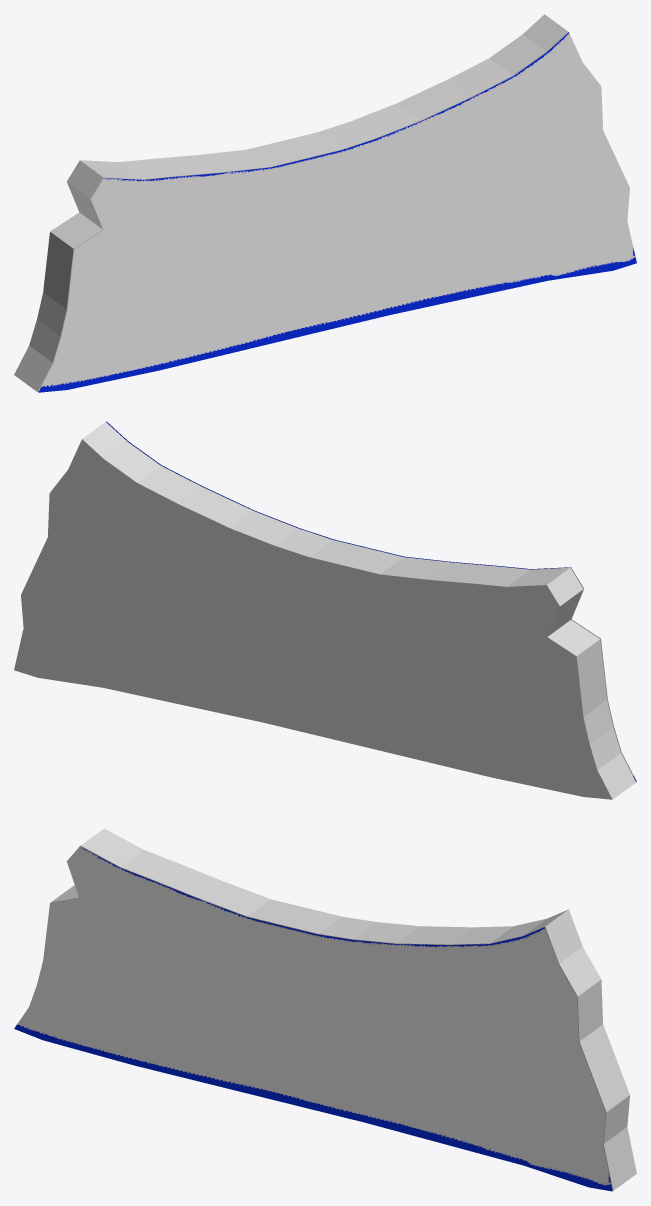
3 renders of one model, top to bottom at view 1: azimuth 30°, elevation 25°; view 2: azimuth 150°, elevation 25°; view 3: azimuth 330°, elevation 25°, orthographic.
Parts seen in each view (by area): view 1: Out_2_1, Out_2_0; view 2: Out_2_0, Out_2_1; view 3: Out_2_1, Out_2_0.
Boxes of the visible parts, x1=… form: Out_2_1: x1=38, y1=32, x2=636, y2=392; Out_2_0: x1=14, y1=14, x2=568, y2=392; Out_2_0: x1=14, y1=422, x2=635, y2=799; Out_2_1: x1=106, y1=421, x2=636, y2=781; Out_2_1: x1=14, y1=846, x2=612, y2=1191; Out_2_0: x1=50, y1=828, x2=636, y2=1190.
Size of the model in its own units: 7.31 by 2.91 by 0.515.
2 materials, 1 textured.
